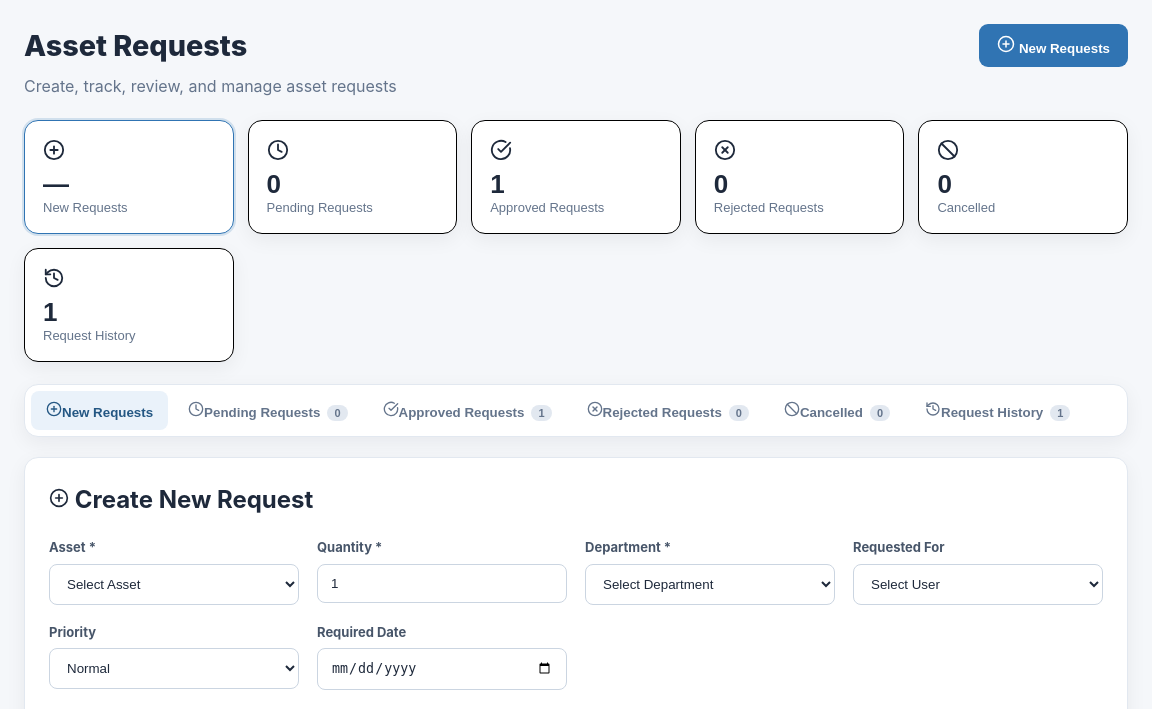
it: fulfills an approved request and refreshes its status
Step 1. Click the tab with aria-label "Approved Requests tab" → (467, 411), box [368,391,566,430]
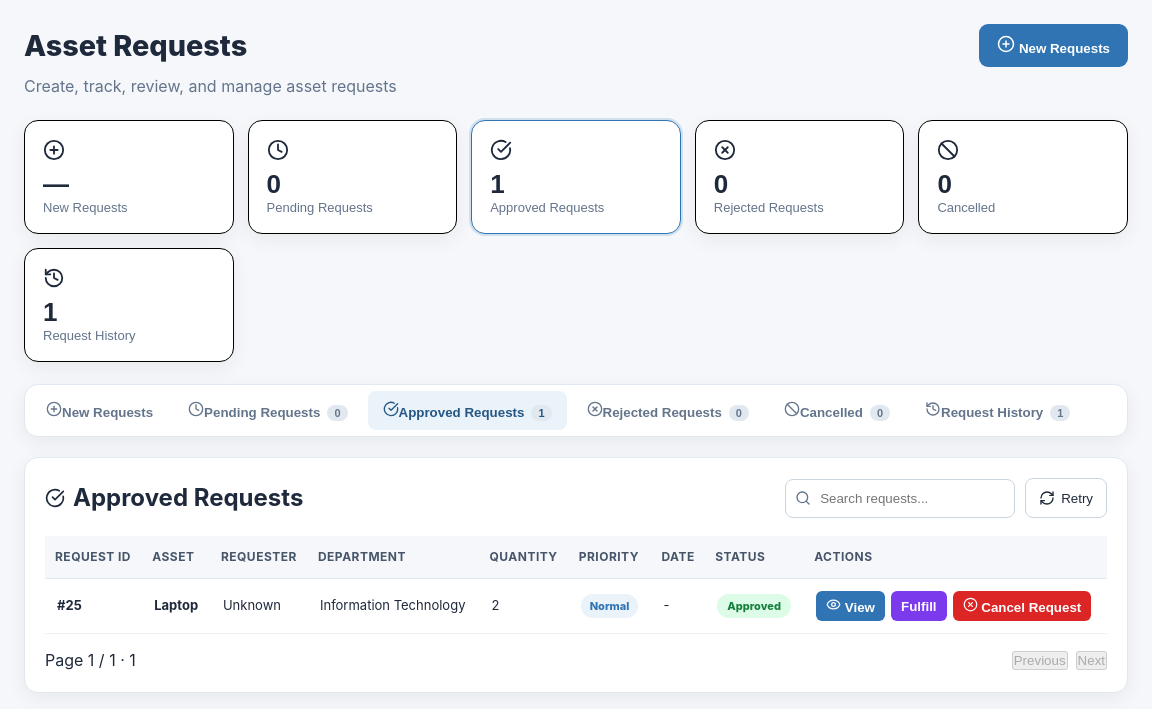
Step 2. Click the button "Fulfill" → (919, 606), box [891,591,946,621]
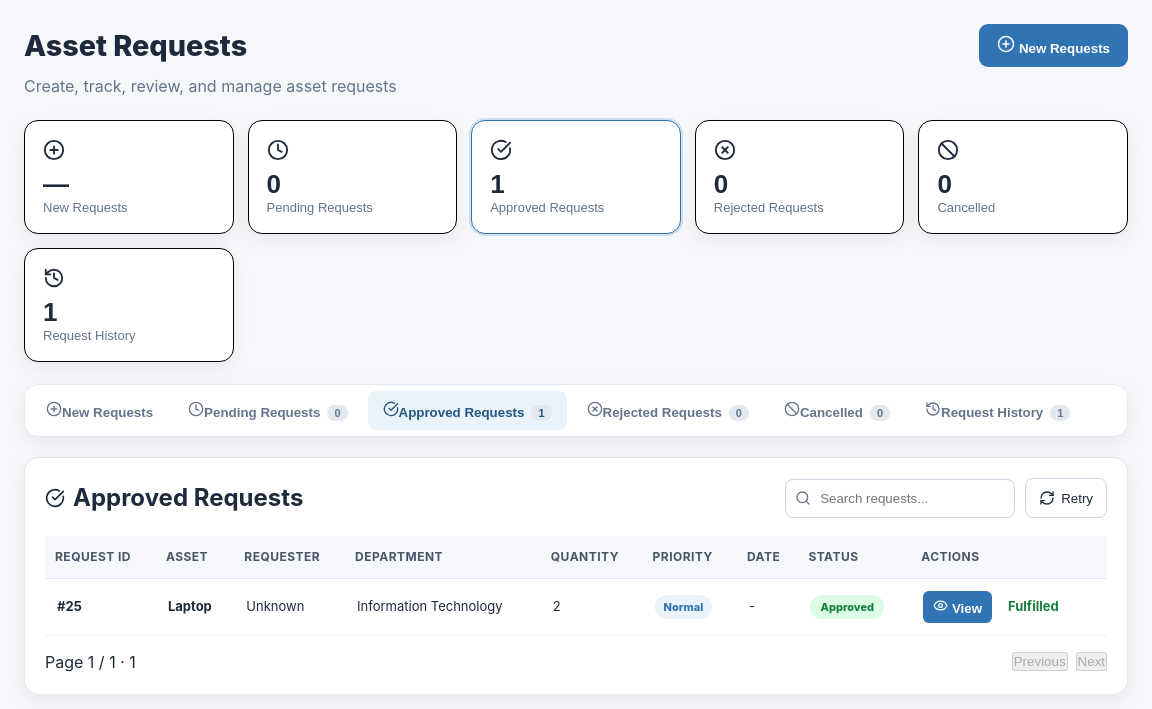
expect the text "Fulfilled" is shown: met, box [1008,598,1059,614]
